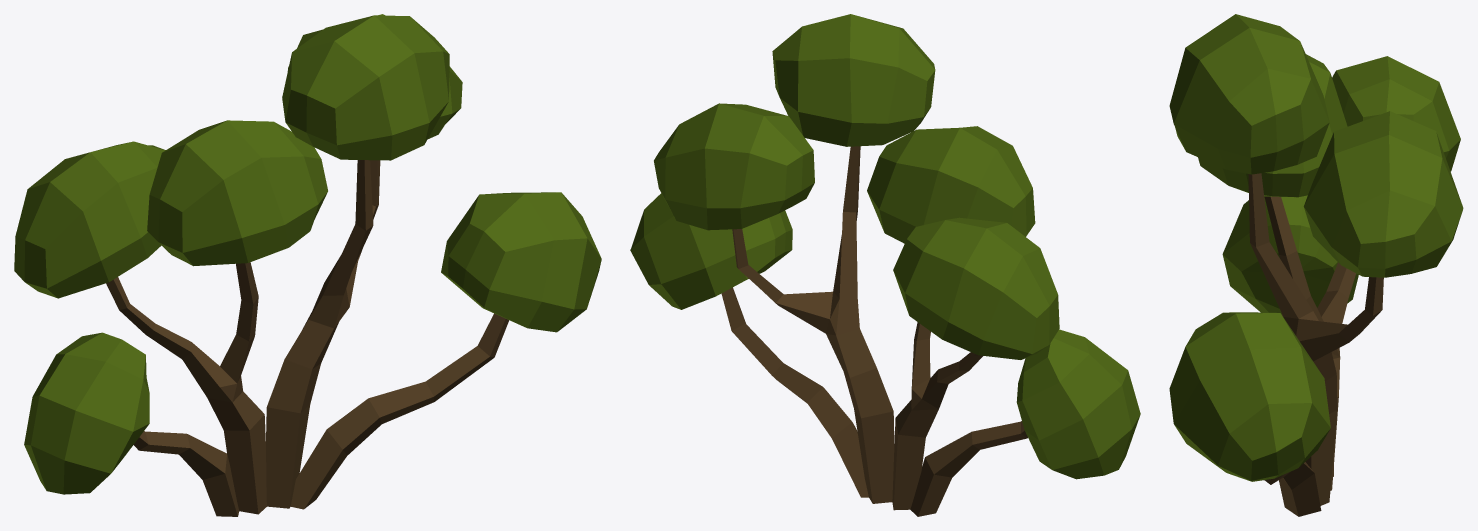
The model's file is TreesAndBushes_040.fbx.
3 views of the same model, side by side, from view 1: azimuth 30°, elevation 25°; view 2: azimuth 150°, elevation 25°; view 3: azimuth 270°, elevation 25° (orthographic). The views are drawn at different scales.
Parts seen in each view (by area): view 1: TreesAndBushes_040; view 2: TreesAndBushes_040; view 3: TreesAndBushes_040.
Boxes of the visible parts, x1,y1,x2,y2 form: TreesAndBushes_040: [14, 14, 601, 516]; TreesAndBushes_040: [630, 14, 1140, 516]; TreesAndBushes_040: [1169, 14, 1463, 516].
Bounding box in the file's own units: 89.13 × 75.94 × 39.97.
